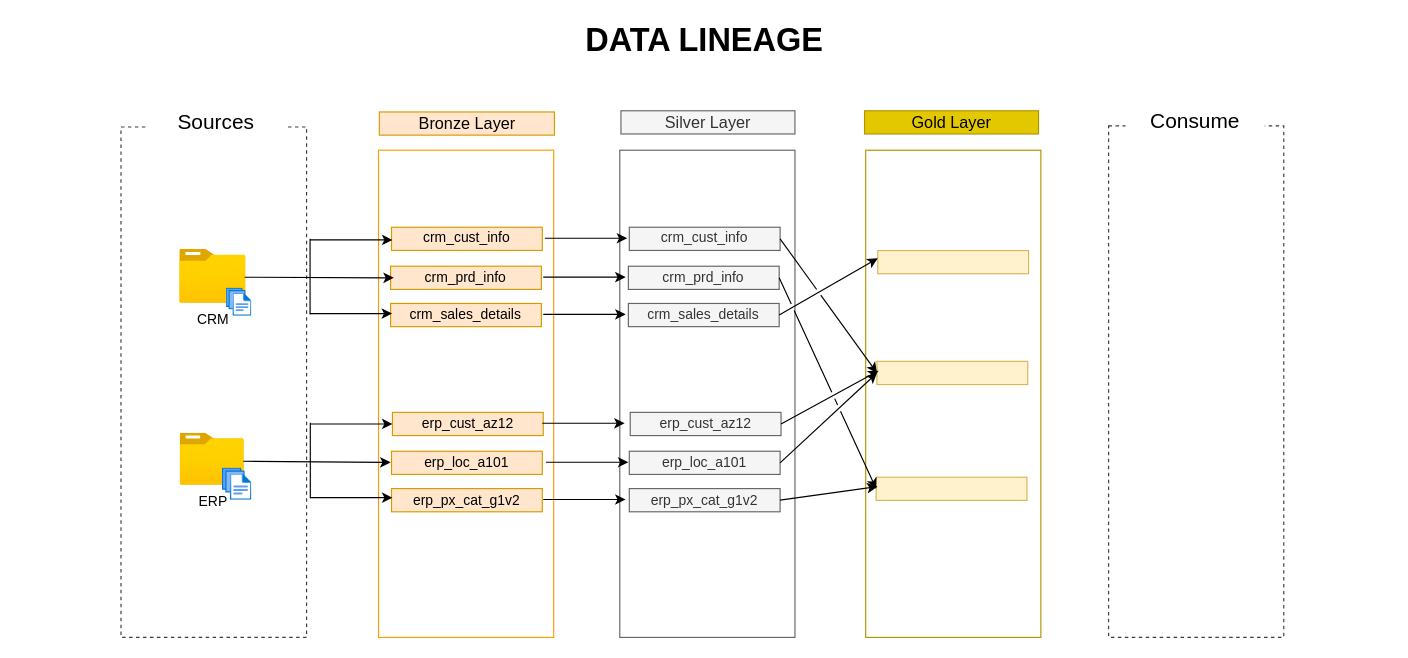
This 1408x658 diagram has some shape labels left out. Each missing label, with the box of its shape:
dim_customers: (876, 360, 1028, 385)
dim_products: (875, 476, 1027, 500)
fact_sales: (877, 249, 1029, 274)
